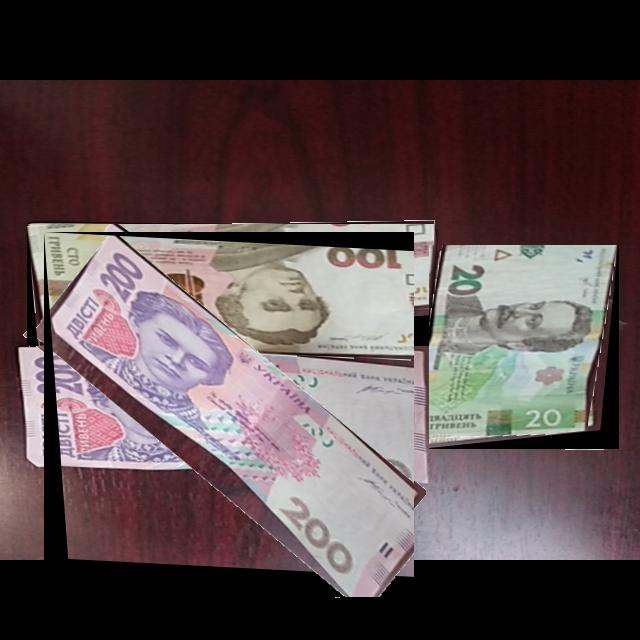100uah: (28, 224, 435, 347)
200uah: (50, 236, 415, 598)
20uah: (429, 245, 619, 438)
